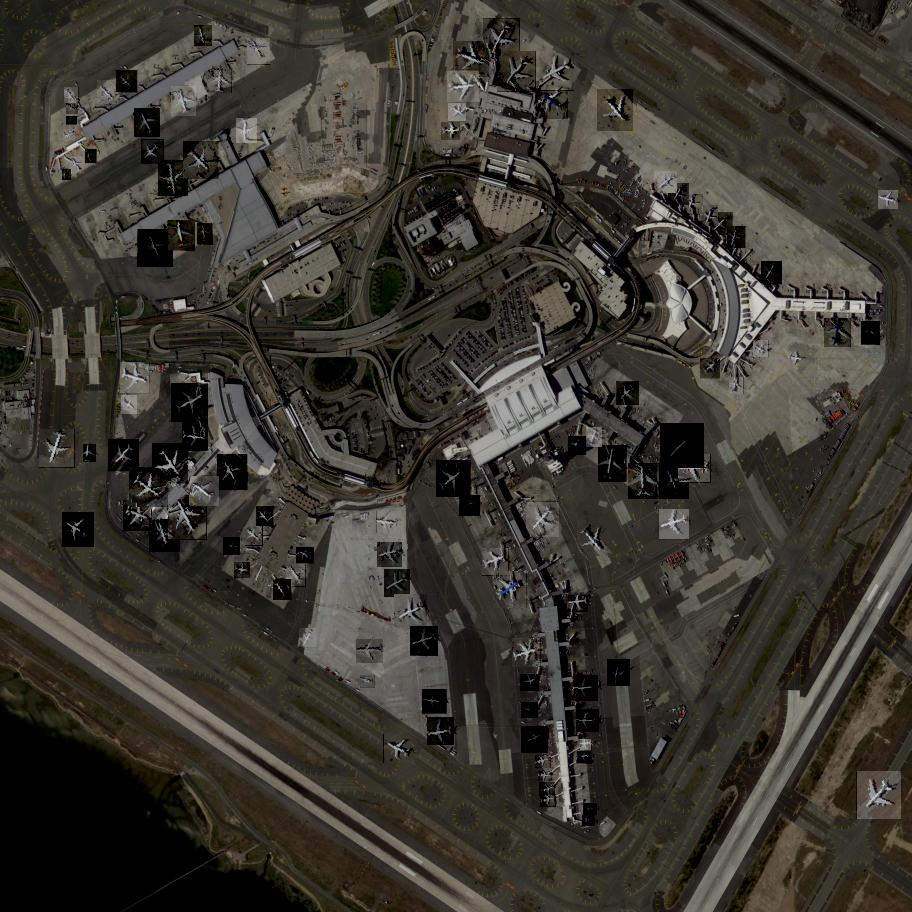plane: (856, 771, 904, 819), (660, 423, 705, 469), (166, 496, 208, 540), (597, 90, 638, 132), (129, 467, 170, 508), (497, 52, 538, 93), (170, 383, 211, 423), (151, 443, 190, 484), (483, 19, 522, 60), (182, 142, 220, 180), (138, 229, 175, 267), (539, 53, 576, 91), (39, 430, 75, 469), (435, 460, 472, 497), (492, 571, 529, 608), (534, 81, 570, 119), (453, 41, 491, 77), (576, 521, 612, 558), (61, 512, 97, 547), (526, 502, 561, 537), (658, 463, 691, 500), (393, 594, 429, 627), (217, 454, 250, 490), (629, 462, 661, 499), (158, 161, 189, 197), (599, 445, 628, 483), (107, 440, 140, 473), (149, 520, 181, 554), (119, 362, 151, 394), (448, 71, 480, 102), (659, 509, 690, 540), (123, 500, 153, 532), (191, 477, 222, 507), (512, 638, 542, 668), (384, 734, 415, 763), (410, 627, 440, 656), (679, 454, 710, 482), (134, 109, 163, 138), (168, 221, 196, 251), (481, 548, 511, 576), (171, 87, 198, 117), (182, 421, 209, 451), (824, 318, 851, 348), (522, 727, 550, 755), (428, 717, 455, 746), (384, 570, 411, 597), (246, 39, 271, 65), (608, 659, 632, 686), (357, 639, 383, 663), (423, 690, 448, 714), (378, 543, 403, 567), (574, 676, 598, 701), (141, 141, 165, 165), (617, 382, 641, 406), (653, 171, 678, 194), (236, 118, 258, 144), (711, 213, 735, 236), (97, 81, 120, 104), (116, 70, 139, 93), (576, 710, 599, 733), (668, 183, 690, 207), (761, 261, 783, 285), (211, 69, 232, 93), (286, 564, 307, 587), (460, 495, 483, 516), (377, 512, 400, 533), (861, 322, 881, 345), (273, 579, 293, 601), (727, 226, 747, 248), (877, 191, 900, 210), (194, 26, 214, 47), (700, 359, 721, 379), (700, 205, 719, 227), (684, 195, 704, 215), (299, 629, 318, 649), (256, 507, 276, 526), (245, 526, 264, 546), (587, 427, 605, 448), (568, 436, 587, 455), (448, 104, 467, 123), (568, 595, 588, 613), (197, 223, 213, 245), (441, 123, 460, 141), (121, 396, 139, 414), (223, 538, 241, 556), (296, 548, 315, 565), (752, 341, 771, 358), (520, 675, 539, 692), (788, 352, 805, 369), (522, 703, 539, 720), (69, 157, 85, 175), (234, 563, 250, 580), (729, 378, 745, 395), (64, 88, 80, 104), (540, 781, 556, 796), (540, 795, 557, 809), (536, 756, 552, 770), (83, 444, 95, 462), (360, 676, 376, 689), (577, 752, 593, 764), (85, 149, 97, 163), (583, 804, 597, 816), (66, 103, 78, 115), (64, 130, 77, 141), (538, 771, 551, 781), (62, 169, 71, 181), (581, 740, 591, 750), (66, 116, 77, 125), (583, 816, 594, 825)
